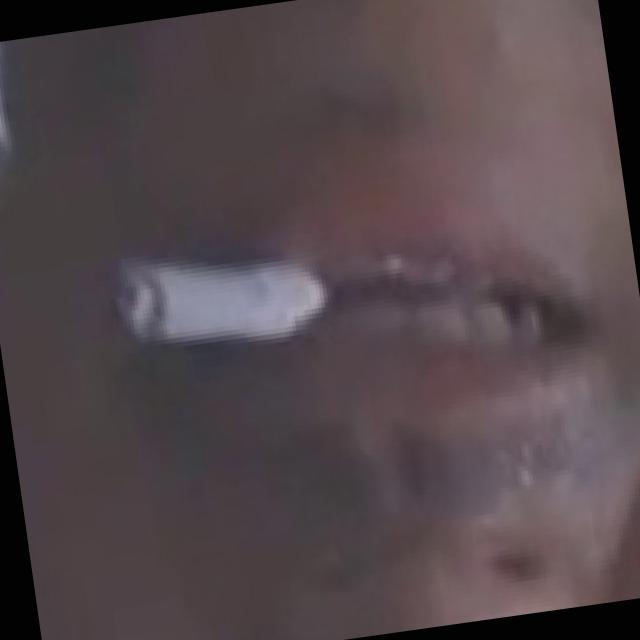smoke: (112, 245, 298, 363)
